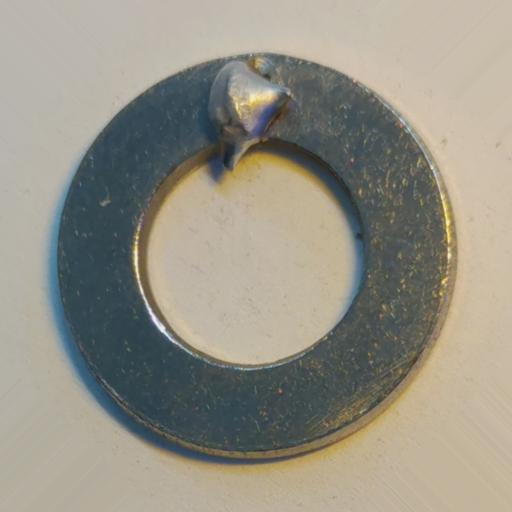excess_material: (207, 59, 298, 176)
